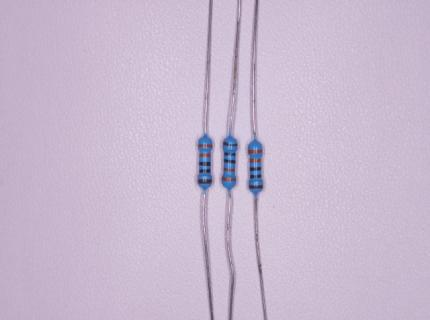Black band: (224, 159, 236, 164), (250, 174, 262, 179), (199, 162, 211, 166), (224, 152, 236, 156), (199, 169, 210, 173), (250, 167, 261, 171)
Brown band: (223, 141, 238, 146), (249, 184, 263, 189), (198, 179, 212, 184)
Orange band: (248, 149, 263, 154), (222, 176, 236, 181), (198, 144, 213, 148), (199, 153, 210, 158), (224, 167, 235, 172), (250, 158, 261, 163)
